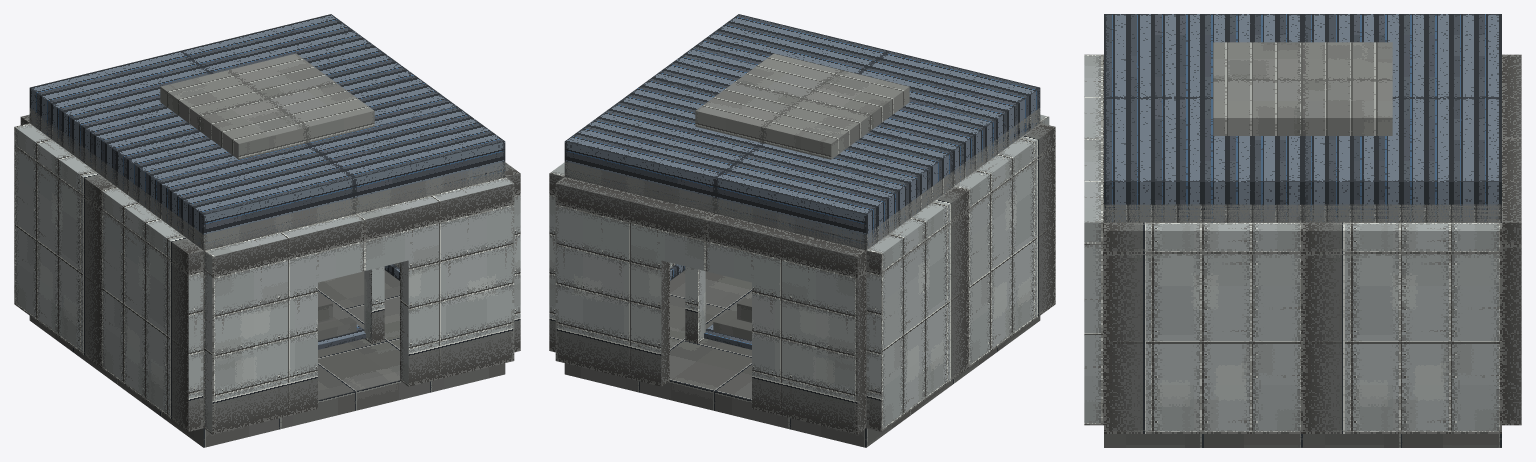
Rendered from shell_treasure_coffer.glb.
3 views of the same model, side by side, from view 1: azimuth 30°, elevation 25°; view 2: azimuth 150°, elevation 25°; view 3: azimuth 270°, elevation 25° (orthographic). The views are drawn at different scales.
Parts seen in each view (by area): view 1: shell_treasure_coffer; view 2: shell_treasure_coffer; view 3: shell_treasure_coffer.
Boxes of the visible parts, x1,y1,x2,y2 form: shell_treasure_coffer: (14, 14, 520, 447); shell_treasure_coffer: (549, 14, 1055, 447); shell_treasure_coffer: (1084, 14, 1521, 447).
Size of what is drawn, in the model's own units: 8.8 by 6.3 by 8.8.
Materials: 32 (32 with a texture image).
